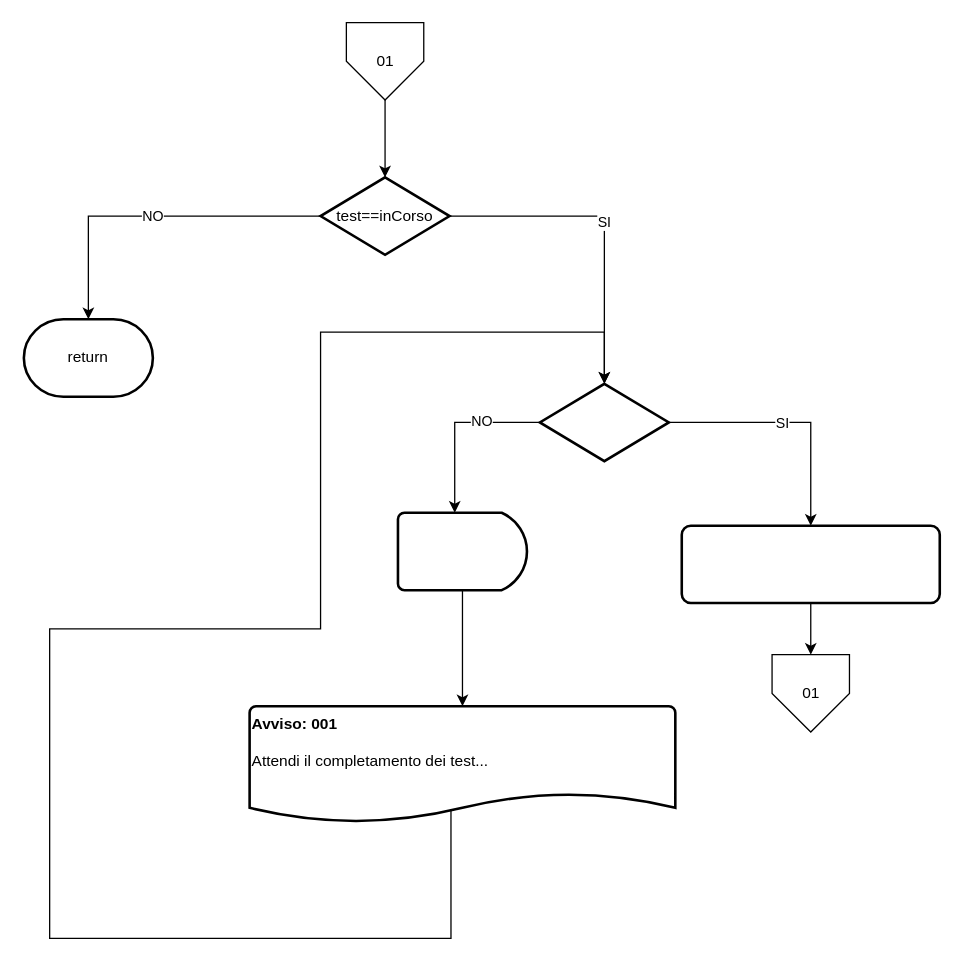
This 962x971 diagram has some shape labels left out. Each missing label, with the box of its shape:
Attendi fine test: (396, 511, 528, 591)
test completati?: (538, 382, 670, 462)
test=completato: (680, 524, 940, 604)
